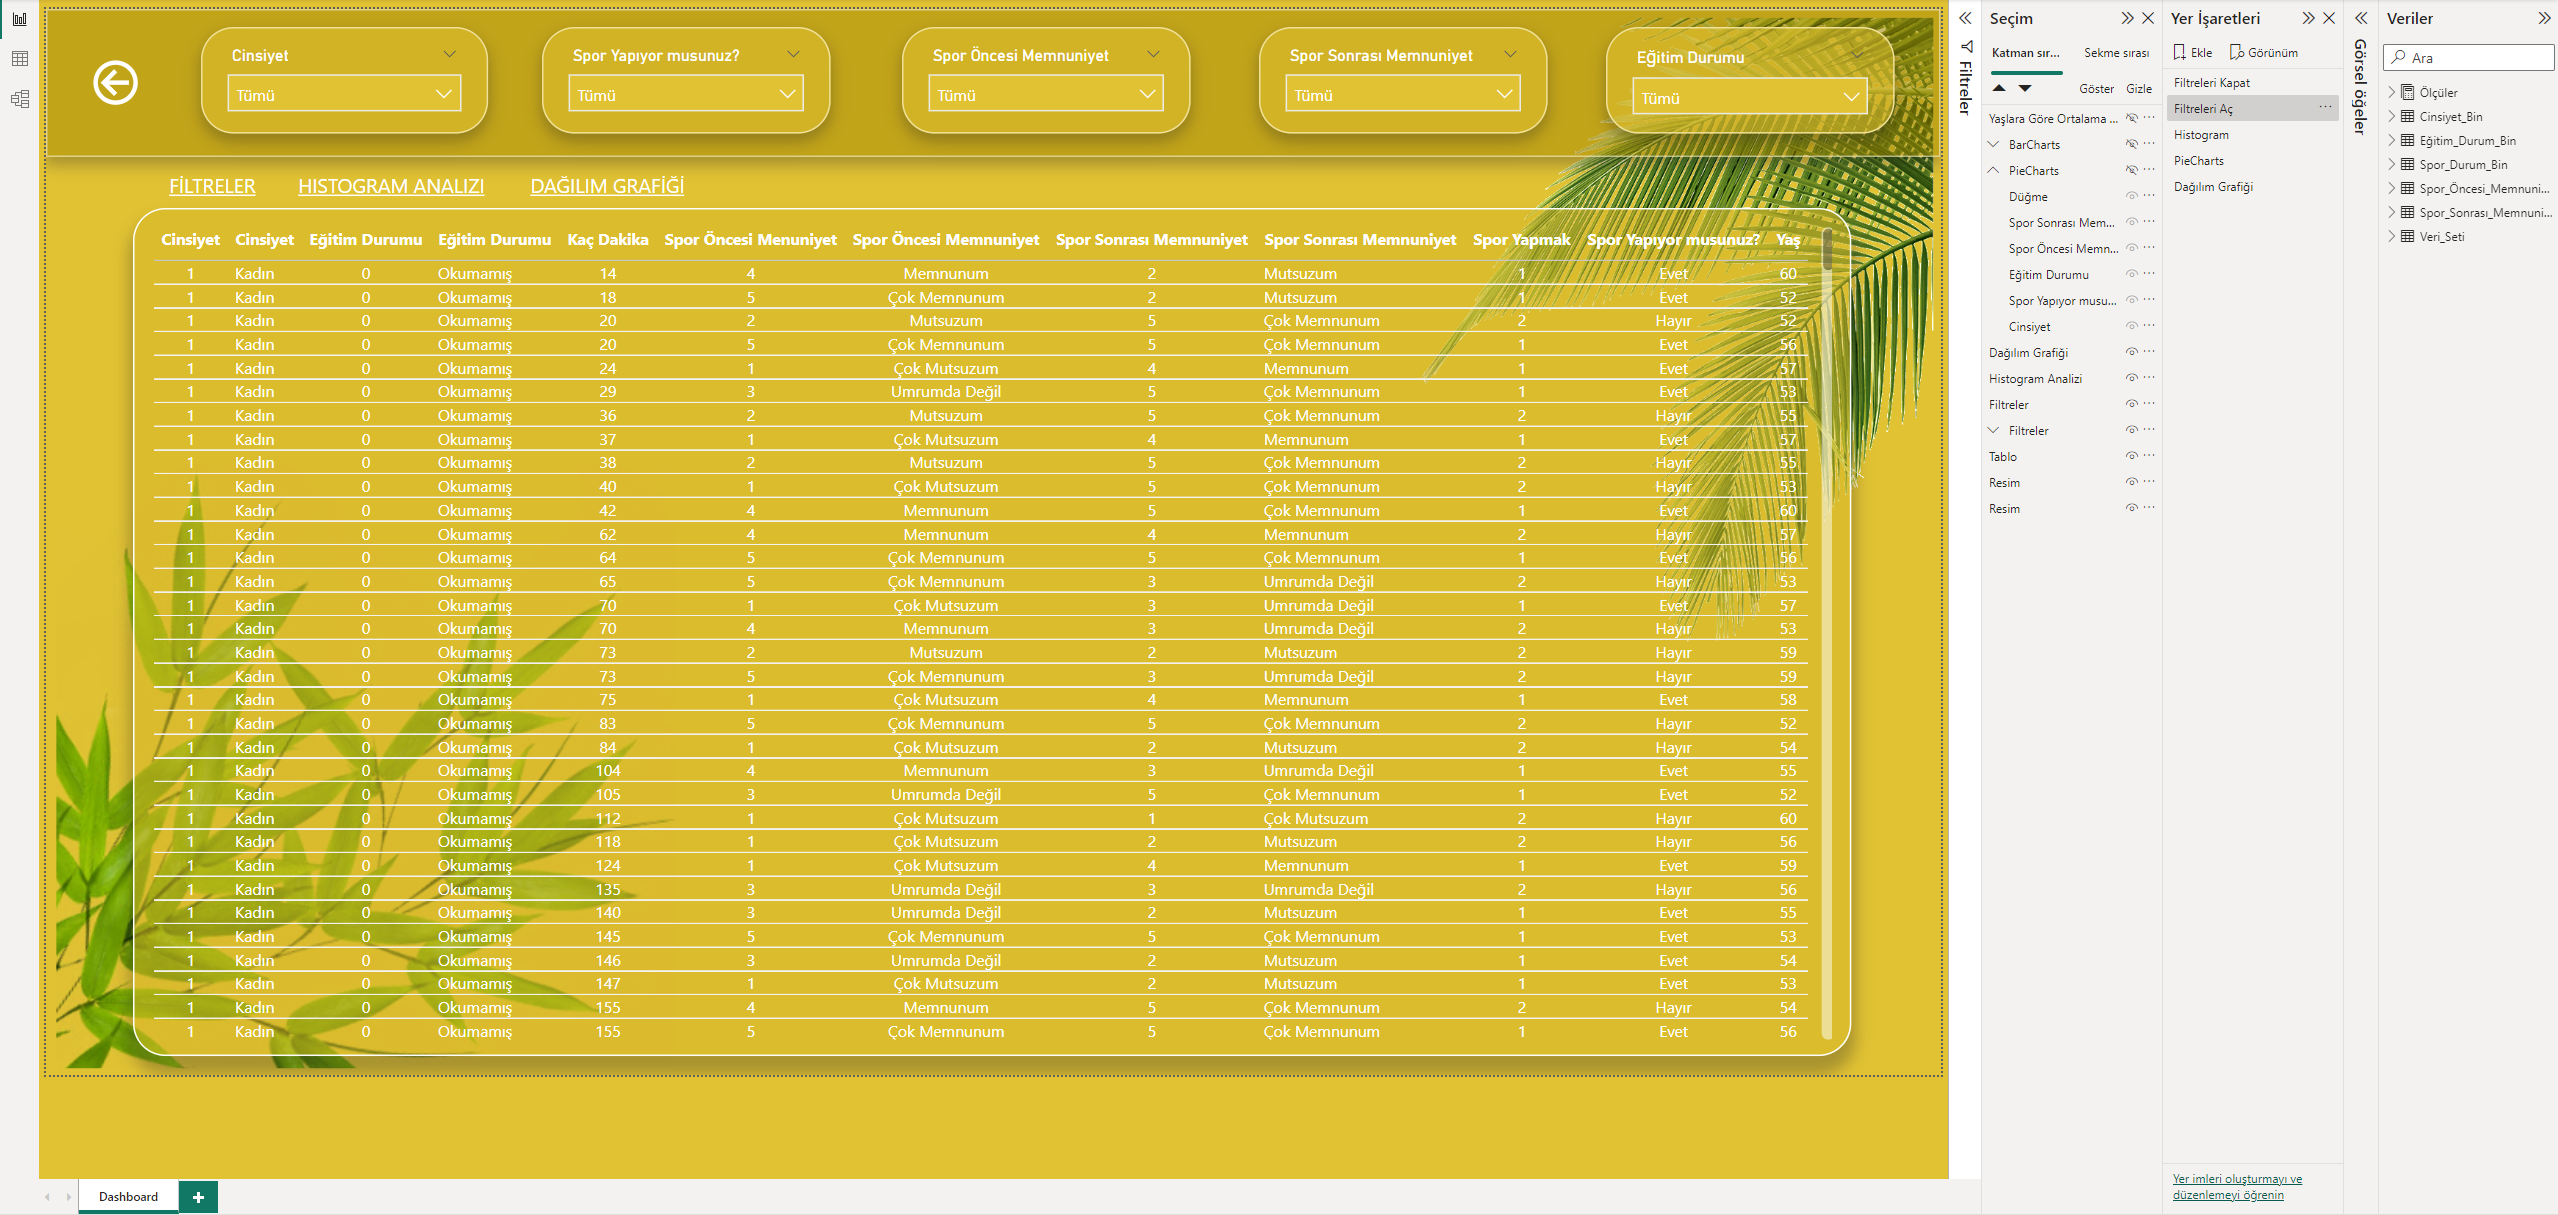

What the dashboard file says about the page in this screenshot:
{"tool":"powerbi","page":{"name":"Dashboard","canvas":[1280,720],"ordinal":0},"visuals":[{"type":"image","box":[0,302.4,431.1,417.7],"z":0},{"type":"image","box":[917.9,0,362.1,435.2],"z":500},{"type":"tableEx","fields":{"Values":["Sum(Sayfa1.Cinsiyet)","Cinsiyet_Bin.Cinsiyet","Sum(Sayfa1.Eğitim  Durumu)","Eğitim_Durum_Bin.Eğitim Durumu","Sum(Sayfa1.Kaç Dakika)","Sum(Sayfa1.Spor Öncesi Menuniyet)","Spor_Öncesi_Memnuniyet_Bin.Hayatından Duyduğu Memnuniyet","Sum(Sayfa1.Spor Sonrası Memnuniyet)","Spor_Sonrası_Memnuniyet_Bin.Hayatından Duyduğu Memnuniyet","Sum(Sayfa1.Spor Yapmak)","Spor_Durum_Bin.Spor Yapıyor musunuz?","Sum(Sayfa1.Yaş)"]},"box":[58.8,134.3,1160.9,572.8],"z":1000},{"type":"actionButton","title":"Filtreler","box":[74.8,103.1,74.8,31.2],"z":3000},{"type":"actionButton","title":"Histogram Analizi","box":[164.1,103.1,138.7,31.2],"z":4000},{"type":"actionButton","title":"Dağılım Grafiği","box":[310,103.1,138.7,31.2],"z":5000}]}

Visuals, with their boxes on the page's 1280x720 design canvas (x1, y1, x2, y2). These are canvas units, not pixel positions in the 2558x1215 screenshot, which may show the page scaled, cropped or inside an application window:
image: pyautogui.locateOnScreen(0, 302, 431, 720)
image: pyautogui.locateOnScreen(918, 0, 1280, 435)
tableEx - Sum(Sayfa1.Cinsiyet) x Cinsiyet_Bin.Cinsiyet: pyautogui.locateOnScreen(59, 134, 1220, 707)
"Filtreler" actionButton: pyautogui.locateOnScreen(75, 103, 150, 134)
"Histogram Analizi" actionButton: pyautogui.locateOnScreen(164, 103, 303, 134)
"Dağılım Grafiği" actionButton: pyautogui.locateOnScreen(310, 103, 449, 134)
